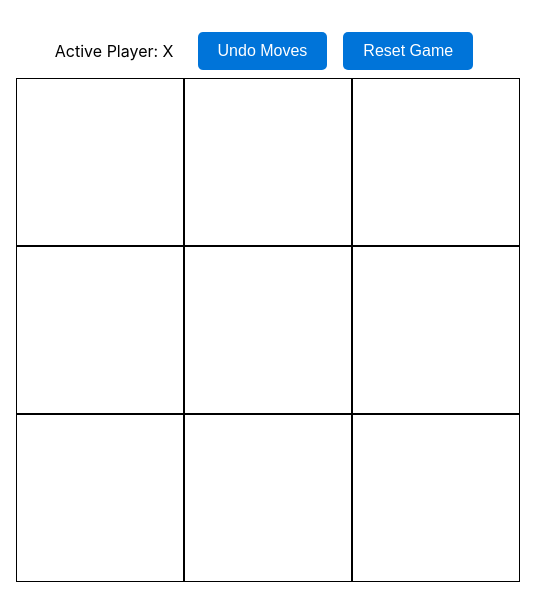
Scenario: Tic-Tac-Toe Game › allows players to make moves and checks for a winner
Click the 4th element with test id "square": (100, 330) [16,246,184,414]
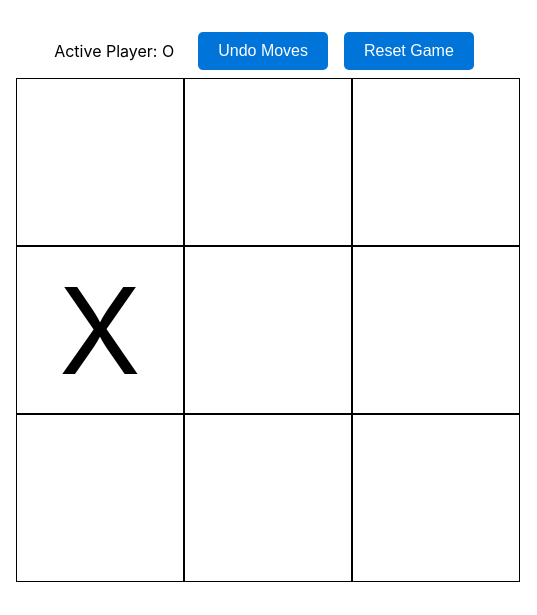
Click the 1st element with test id "square": (100, 162) [16,78,184,246]
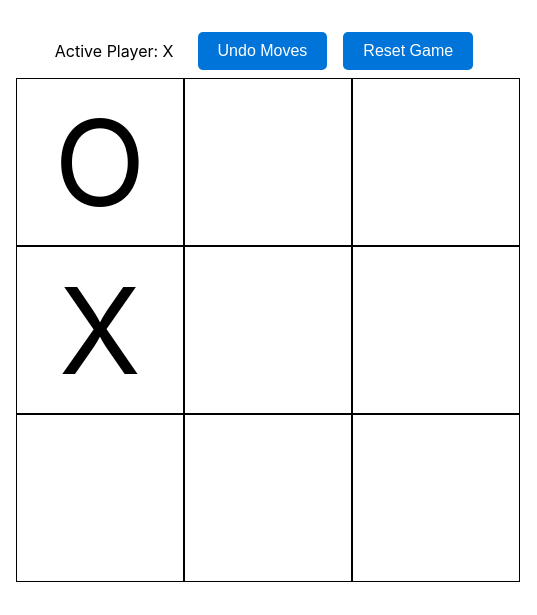
Click the 5th element with test id "square": (268, 330) [184,246,352,414]
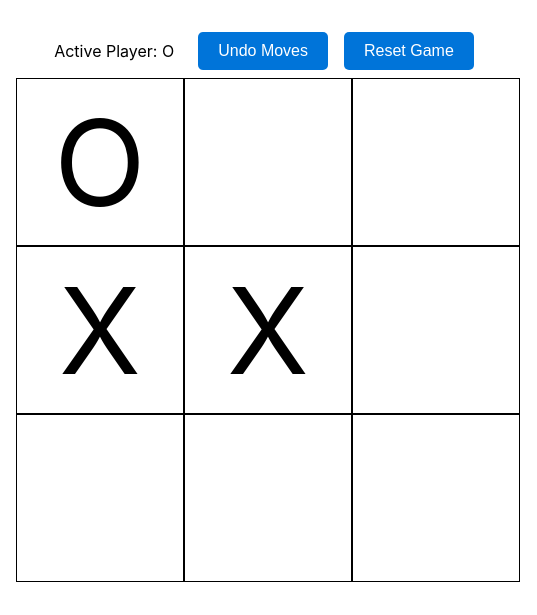
Click the 2nd element with test id "square": (268, 162) [184,78,352,246]
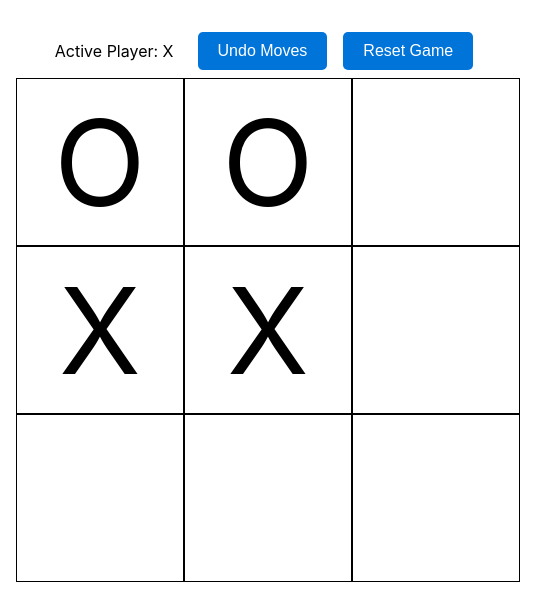
Click the 9th element with test id "square": (436, 498) [352,414,520,582]
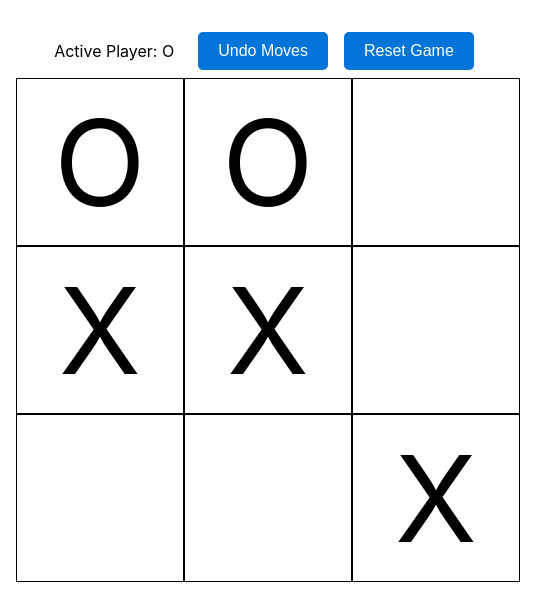
Click the 3rd element with test id "square": (436, 162) [352,78,520,246]
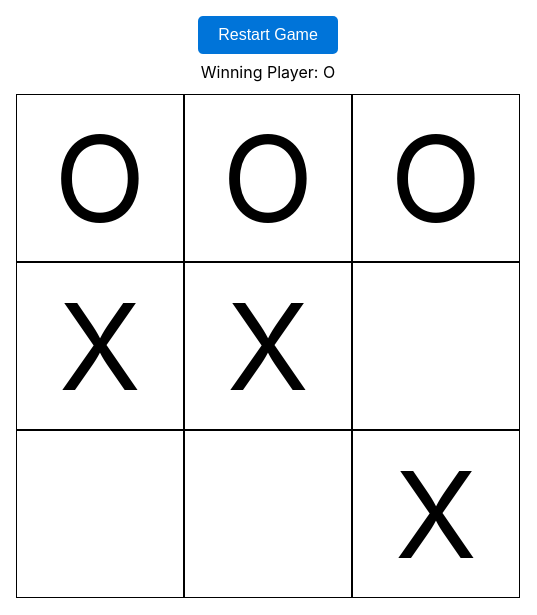
Result: the text "Winning Player: O" is shown at [201,62,335,82]
Result: the button "Undo Moves" is gone
Result: the button "Restart Game" is shown at [198,16,338,54]
